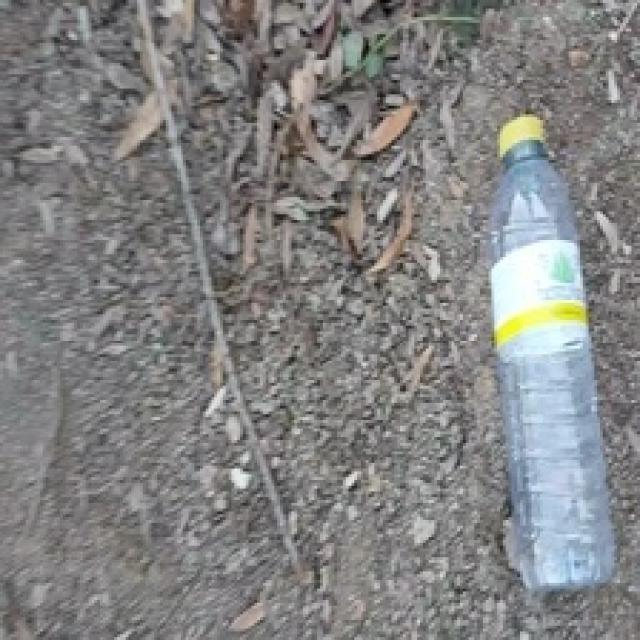Plastic: (485, 113, 613, 596)
